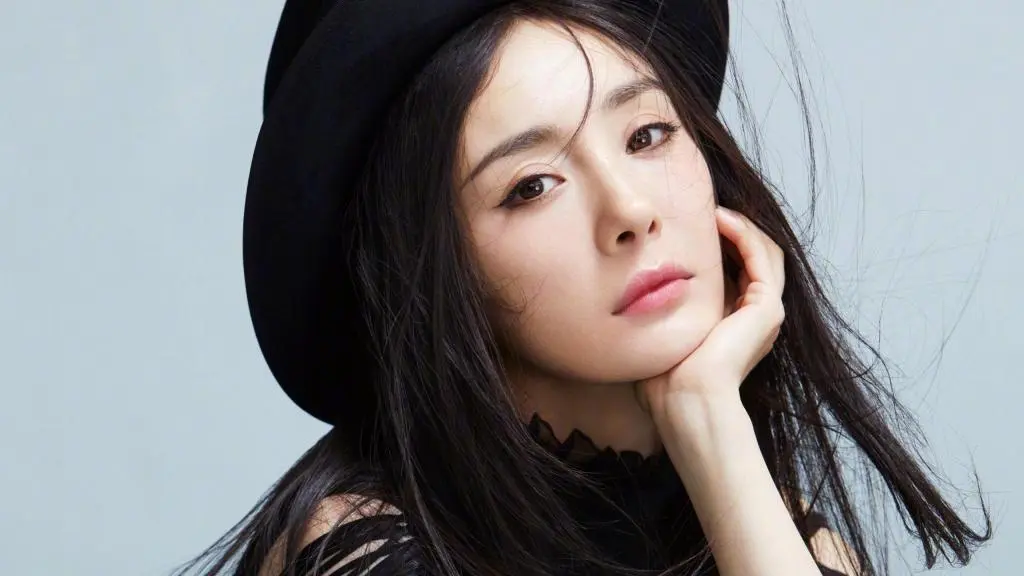withoutmask: (409, 18, 781, 411)
